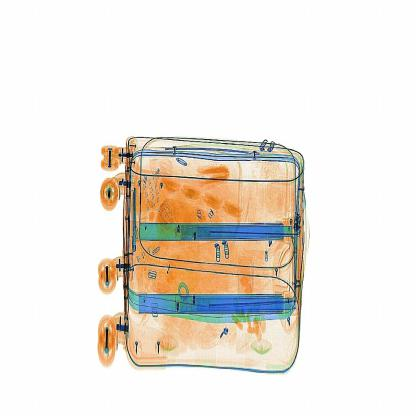pliers: (131, 188, 142, 262)
